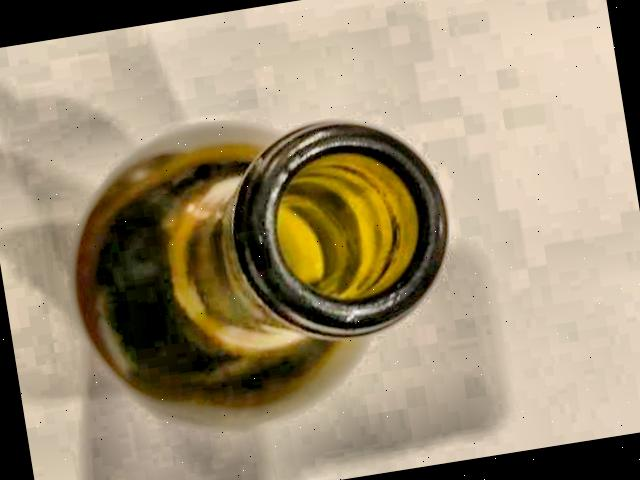Bottles: (54, 83, 488, 440)
